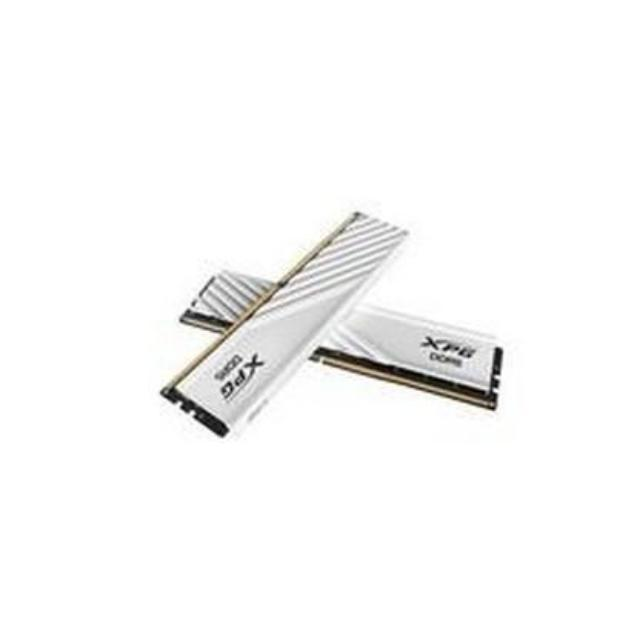RAM: (150, 206, 513, 452)
